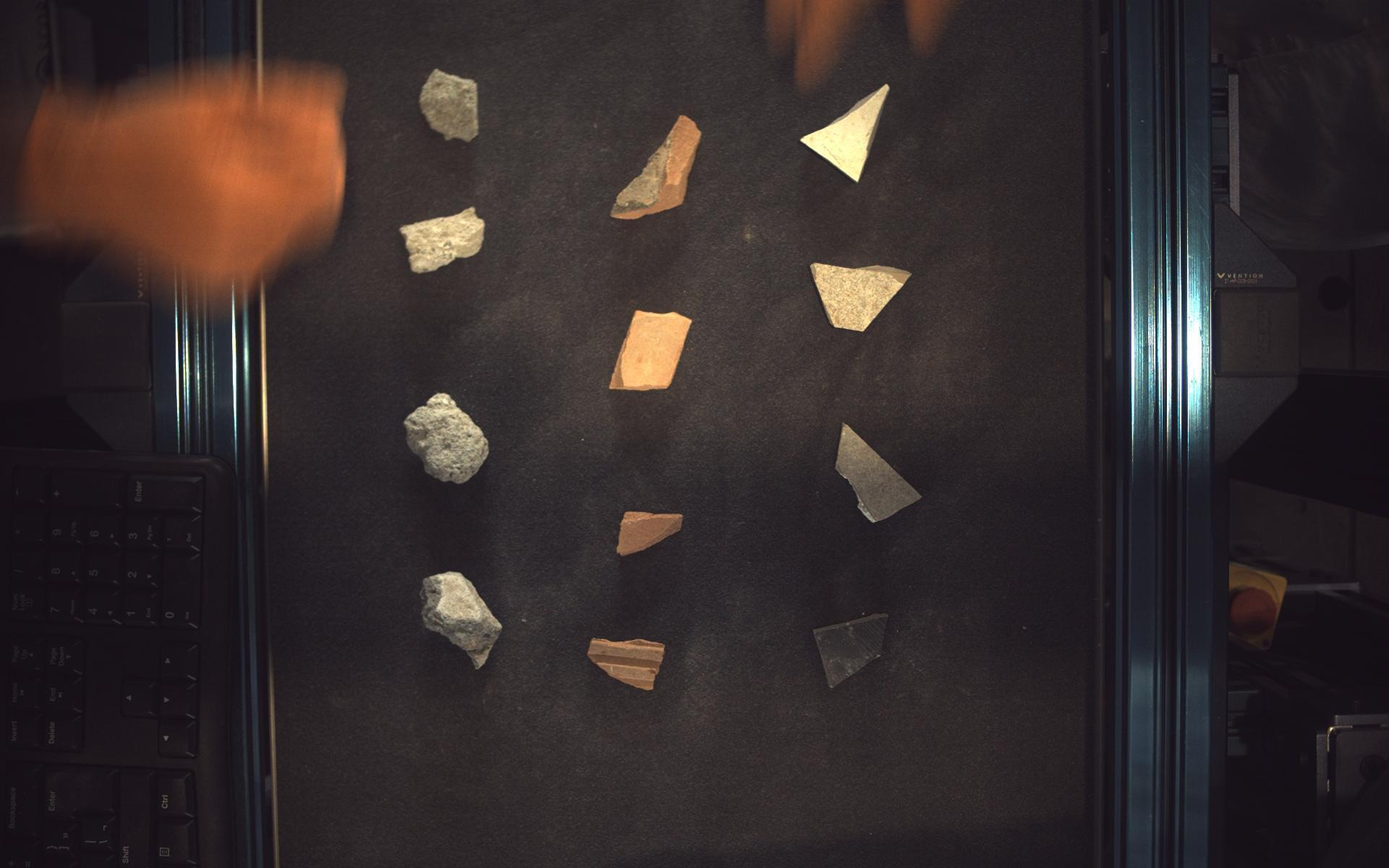brick: (611, 116, 702, 219), (610, 311, 692, 391), (587, 640, 666, 692), (617, 512, 683, 556)
concrete: (420, 572, 501, 669), (404, 393, 488, 484), (399, 207, 485, 273), (419, 67, 479, 140)
tile: (802, 82, 891, 180), (838, 423, 923, 523), (812, 263, 912, 331), (815, 615, 889, 689)
